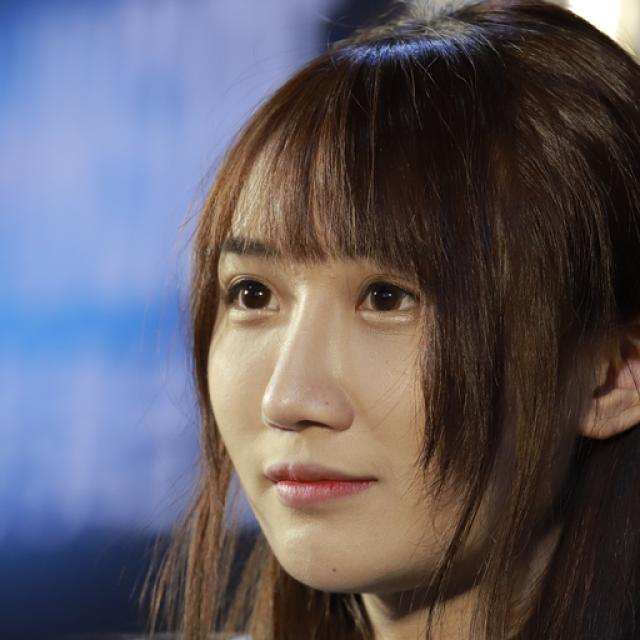neutral: (204, 140, 528, 590)
